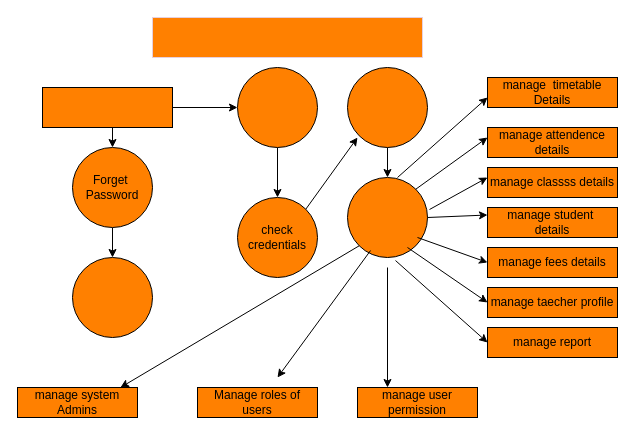
This 635x435 diagram has some shape labels left out. The box of each missing label's shape, as (x1, y1, x2, y2) in pixels:
Admin: (42, 86, 172, 128)
check roles of access: (346, 66, 428, 148)
login to system: (236, 66, 318, 148)
manage modules: (346, 176, 428, 258)
Send Email to users: (72, 256, 152, 338)
Student Information System: (152, 16, 422, 58)
